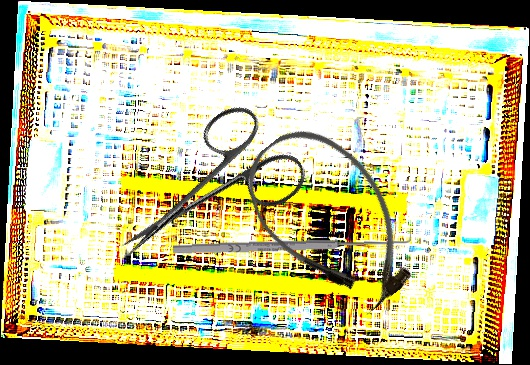Cannula: (224, 107, 438, 333)
Hook Surgical: (172, 225, 412, 258)
Iris Scissors: (92, 92, 314, 298)
